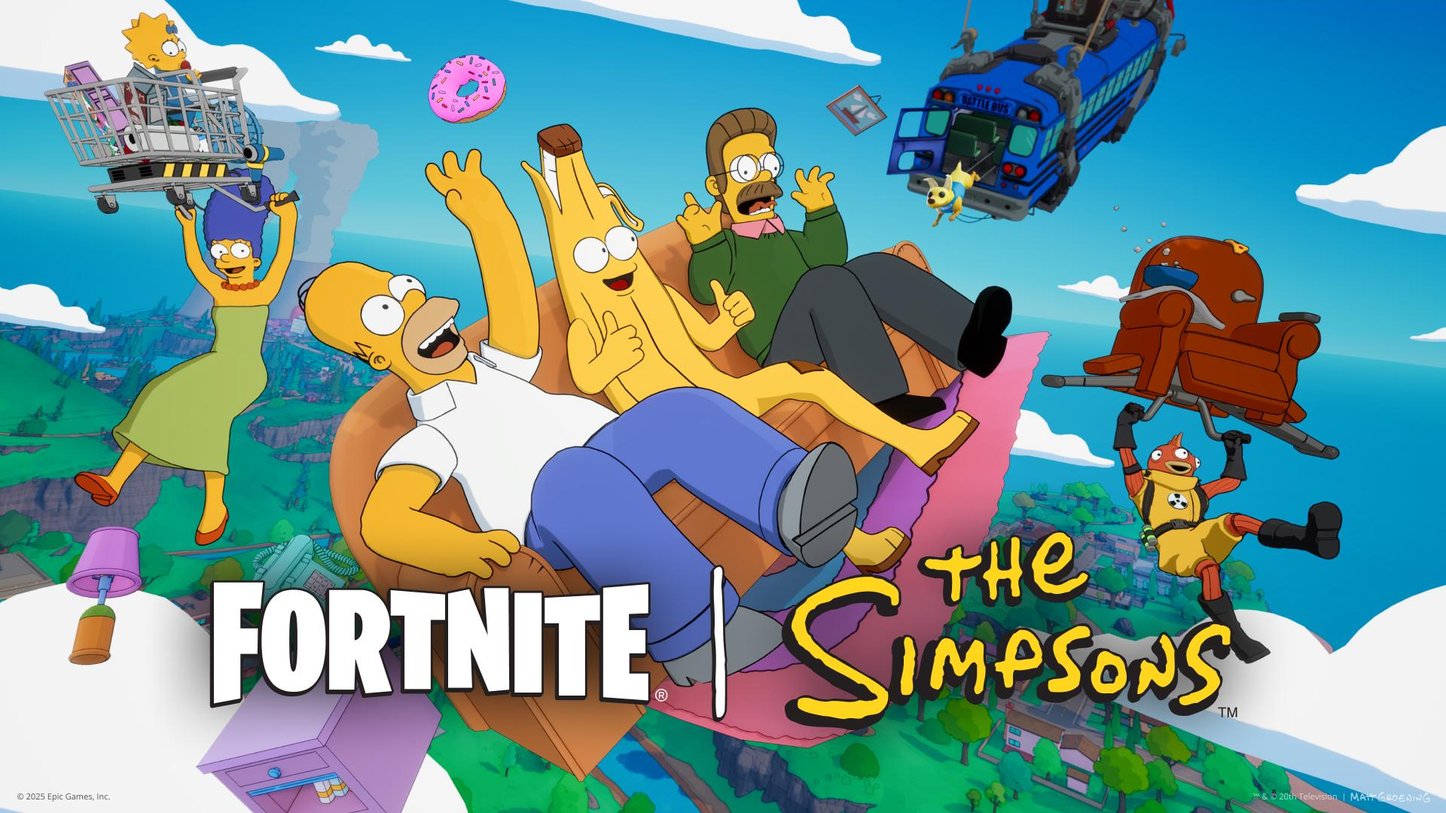Homer: (289, 134, 851, 738)
Maggie: (110, 8, 224, 131)
Marge: (125, 164, 308, 583)
